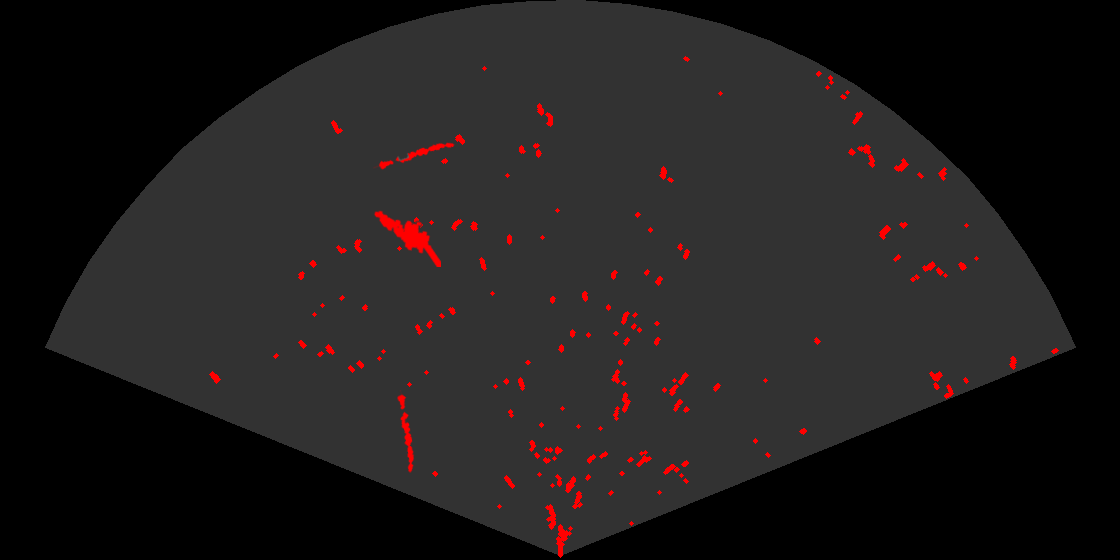chain: (373, 141, 456, 171), (396, 390, 416, 473)
frogman: (372, 209, 441, 267)
